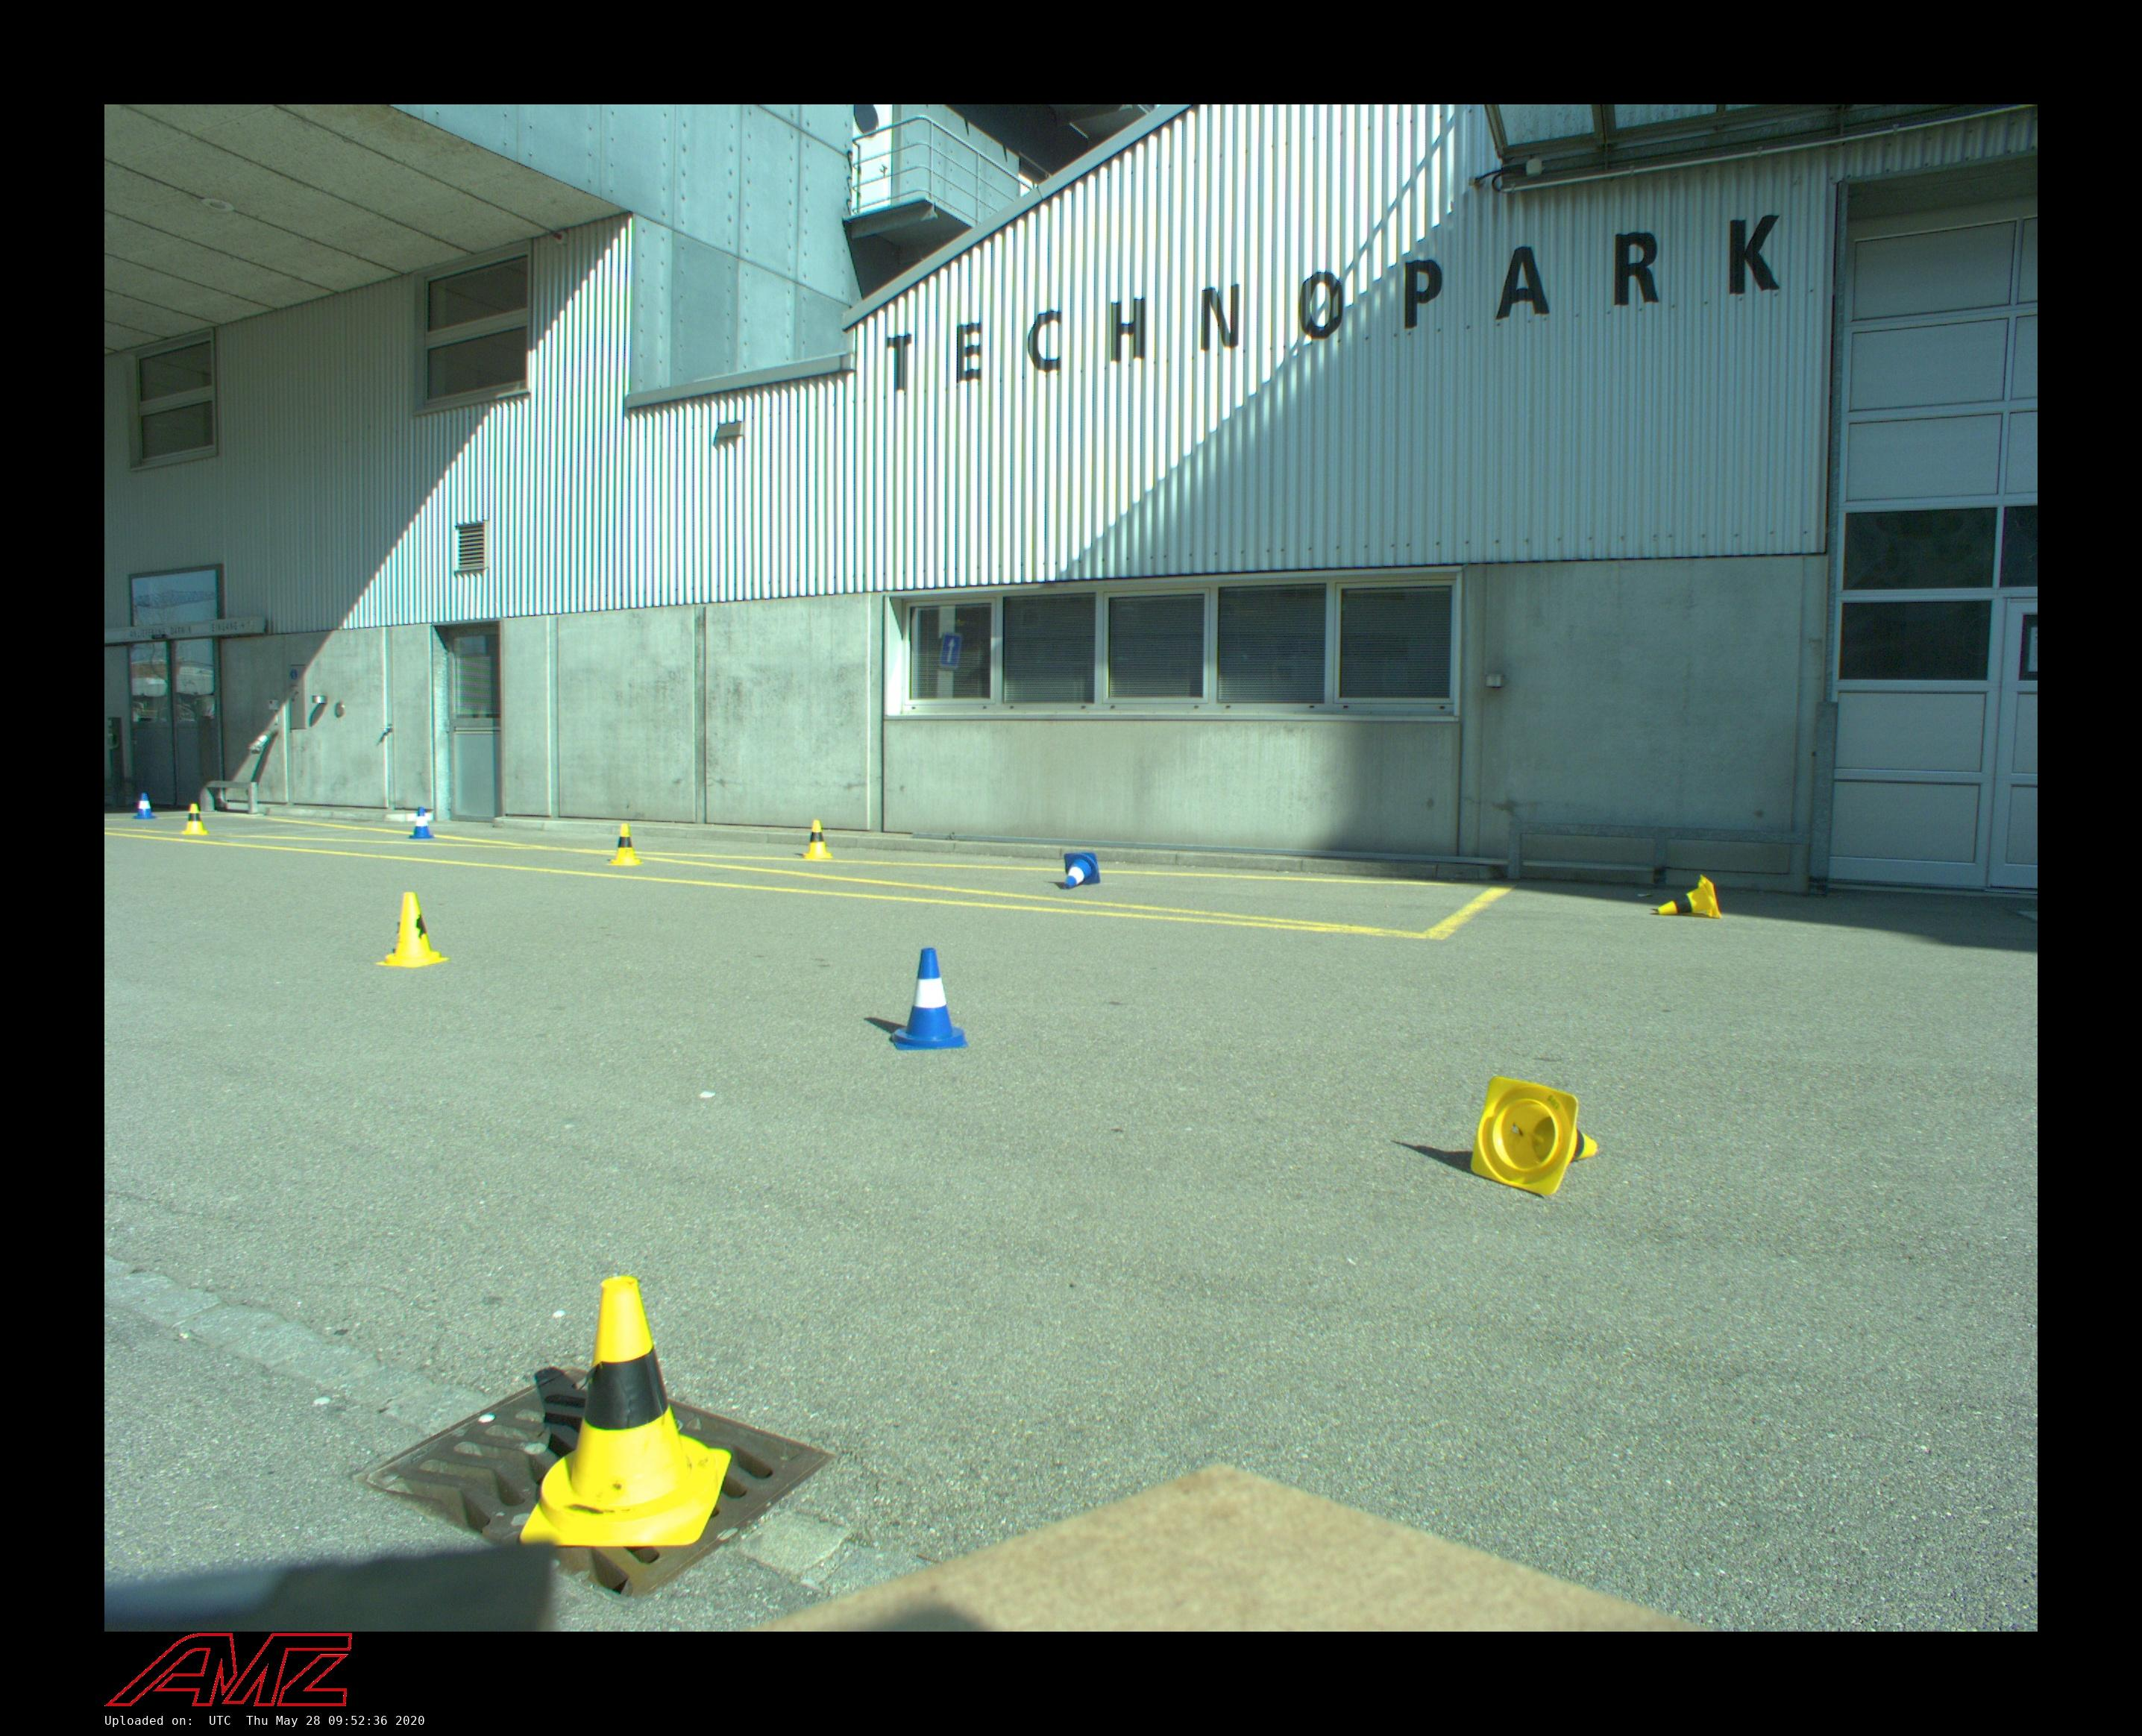blue_cone: (891, 948, 967, 1050), (1063, 852, 1100, 889), (409, 806, 434, 840), (133, 792, 156, 820)
yellow_cone: (519, 1275, 732, 1545), (1471, 1075, 1598, 1196), (376, 891, 450, 967), (1658, 873, 1722, 919), (606, 824, 643, 866), (803, 820, 831, 859), (182, 804, 207, 834)
